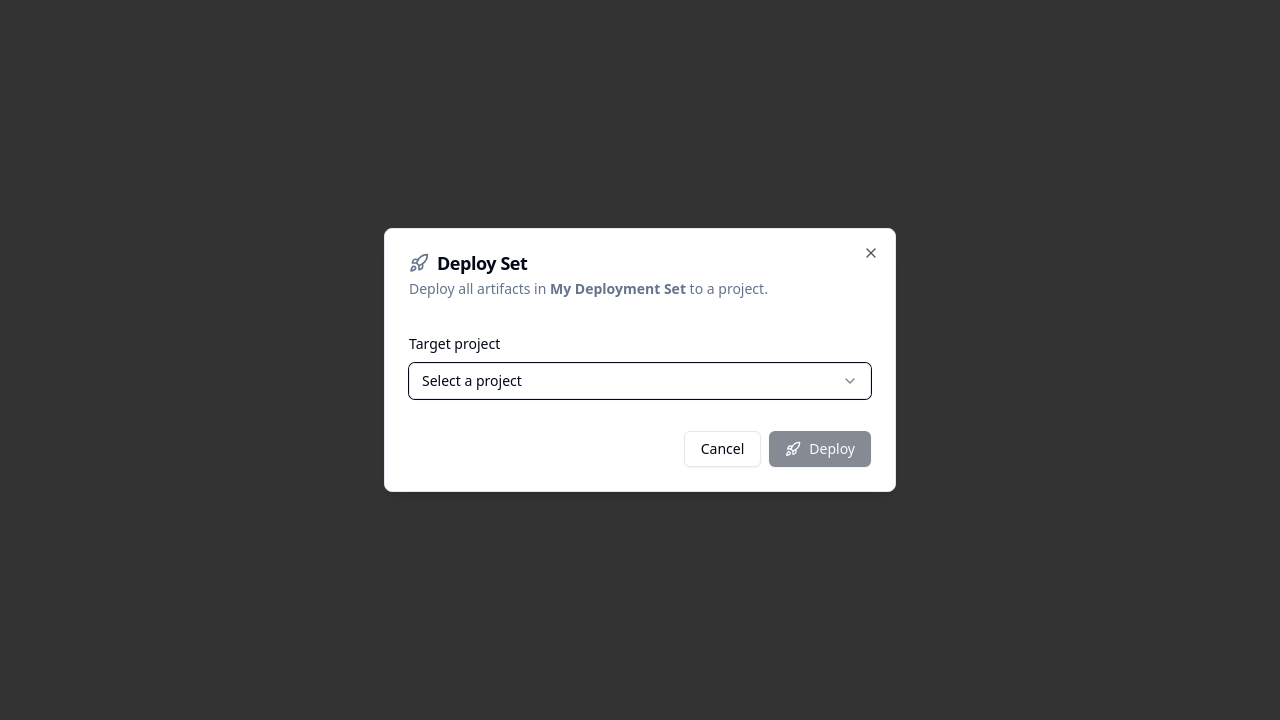
Scenario: BatchDeployModal › Step 1 — Input form › shows all available projects in the open dropdown
The image size is (1280, 720).
# fireEvent avoids hasPointerCapture errors when opening the Select
Click the dropdown named "select target project" at (472, 380), box [409,363,871,399]
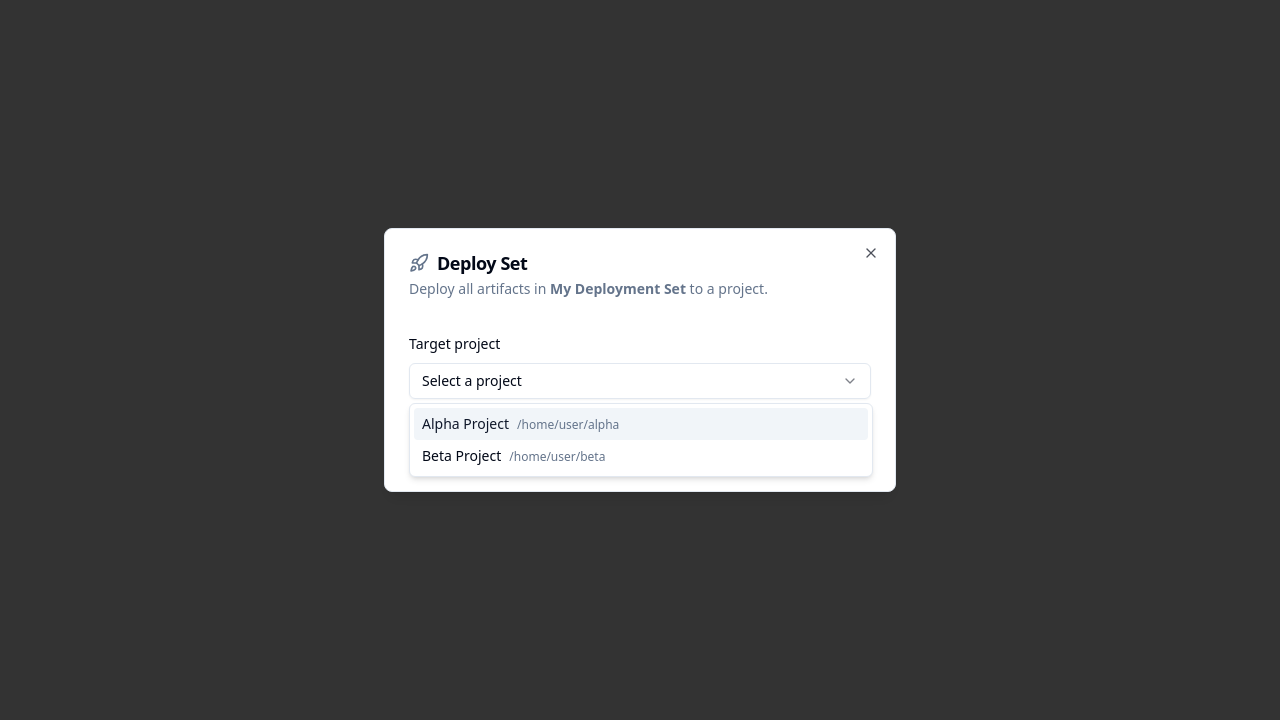
Expected: the option "Alpha Project/home/user/alpha" is shown, [414,408,868,440]
Expected: the option "Beta Project/home/user/beta" is shown, [422,446,606,465]
